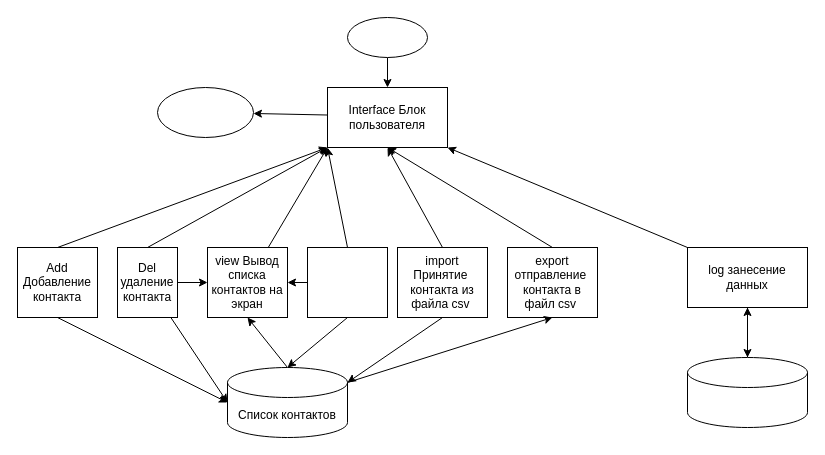
Image size: 825x455. Some labels were removed from this diagram. Here are the shapes that lost their labels. From the top down, the box of each, then its label:
(346, 16, 428, 58): Начало
(156, 86, 254, 138): Конец
(306, 246, 388, 318): Redactor Изменение контакта
(686, 356, 808, 428): Log данные
